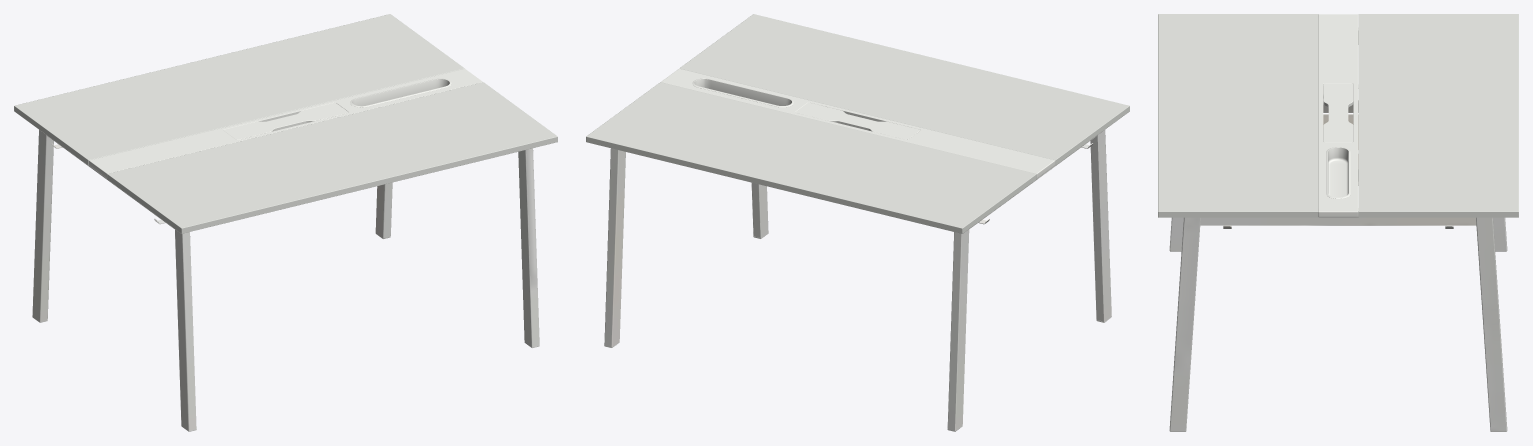
The model's file is 82 - MITTZON - 會議桌, 白色, 140x108x75 公分 IKEA 線上購物.glb.
3 views of the same model, side by side, from view 1: azimuth 30°, elevation 25°; view 2: azimuth 150°, elevation 25°; view 3: azimuth 270°, elevation 25° (orthographic). The views are drawn at different scales.
Parts seen in each view (by area): view 1: 19533381_conference_table.001, 19533381_conference_table.003, 19533381_conference_table, model.003; view 2: 19533381_conference_table.001, 19533381_conference_table.003, 19533381_conference_table, model.003; view 3: 19533381_conference_table.001, 19533381_conference_table.003, 19533381_conference_table, model.003.
Part boxes in pixels (left/top/right/bottom): 19533381_conference_table.001: left=14, top=14, right=557, bottom=233; 19533381_conference_table.003: left=32, top=130, right=539, bottom=431; 19533381_conference_table: left=89, top=68, right=482, bottom=178; model.003: left=350, top=78, right=451, bottom=107; 19533381_conference_table.001: left=586, top=14, right=1129, bottom=233; 19533381_conference_table.003: left=604, top=130, right=1111, bottom=431; 19533381_conference_table: left=661, top=68, right=1055, bottom=178; model.003: left=692, top=78, right=793, bottom=107; 19533381_conference_table.001: left=1158, top=14, right=1518, bottom=217; 19533381_conference_table.003: left=1169, top=27, right=1507, bottom=431; 19533381_conference_table: left=1318, top=14, right=1358, bottom=217; model.003: left=1326, top=147, right=1350, bottom=198.
Bounding box in the file's own units: 1.4 × 0.7523 × 1.08.
4 materials, 2 textured.
